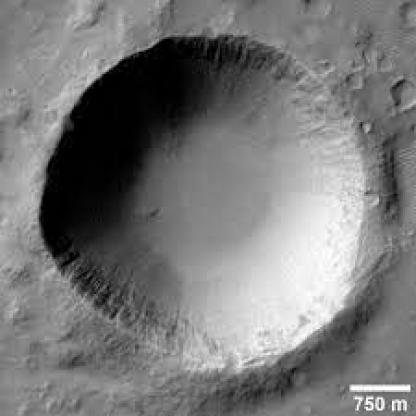craters: (26, 43, 375, 372), (42, 0, 113, 46), (375, 68, 414, 114), (0, 80, 35, 128), (346, 66, 382, 102), (296, 0, 353, 22), (0, 294, 34, 330), (31, 106, 61, 130), (388, 2, 414, 29), (362, 120, 378, 137)
